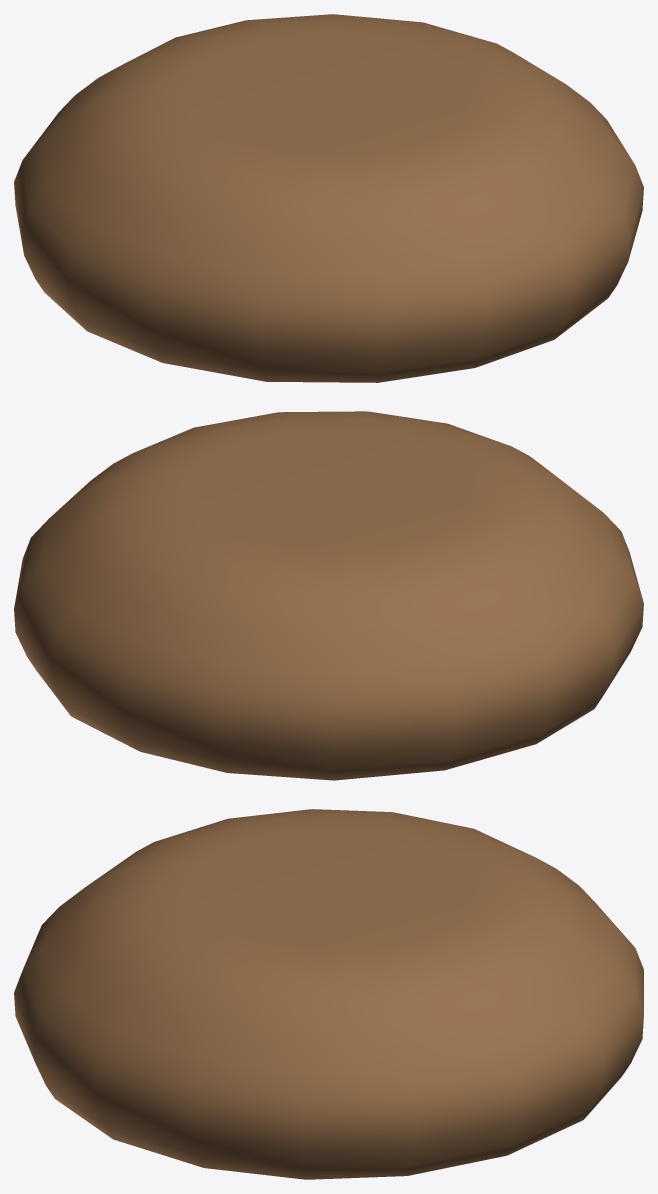
File: Bread.glb
3 views of the same model, one above another, from view 1: azimuth 30°, elevation 25°; view 2: azimuth 150°, elevation 25°; view 3: azimuth 270°, elevation 25° (orthographic).
Parts seen in each view (by area): view 1: Round; view 2: Round; view 3: Round.
Part boxes in pixels (x1,y1,x2,y2): Round: (14,14,643,382); Round: (14,411,643,780); Round: (14,809,643,1179).
Size of the model in its own units: 0.2107 by 0.0656 by 0.2099.
